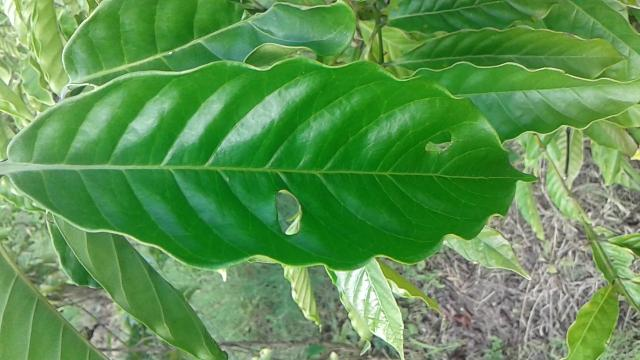healthy: (10, 62, 542, 270)
